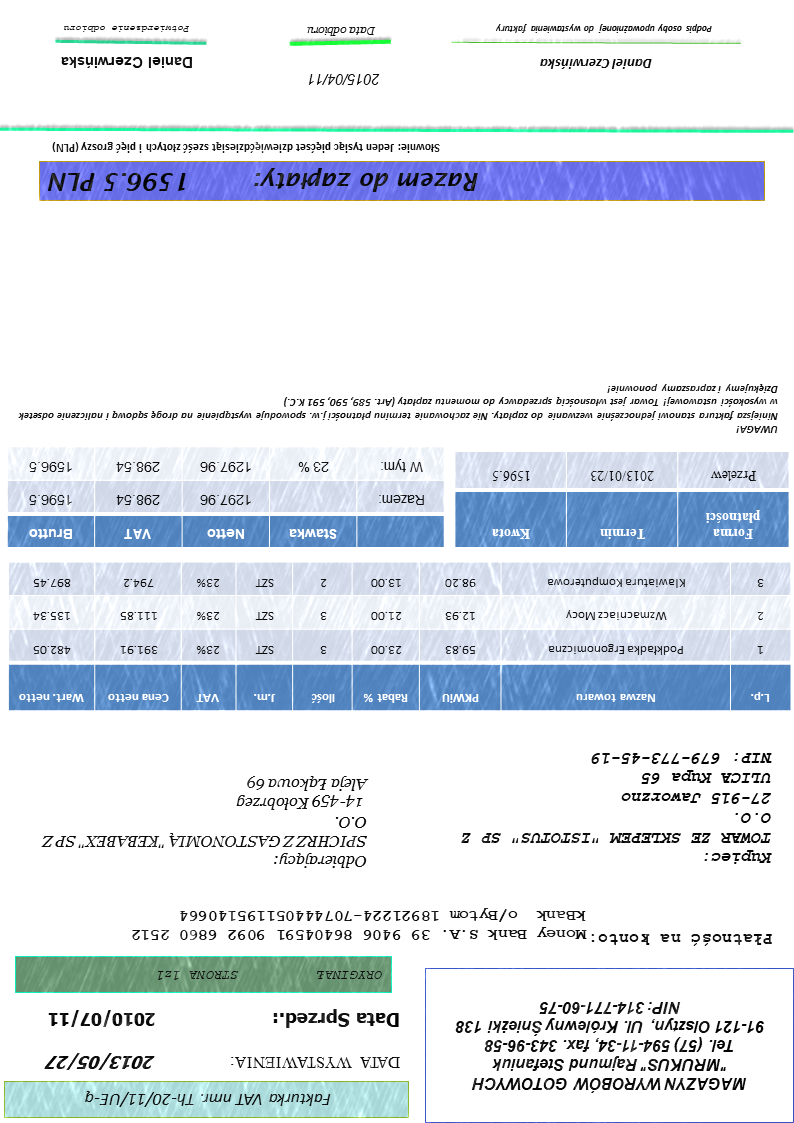Table: (3, 557, 793, 713), (6, 442, 445, 551), (453, 450, 790, 550)
TextBox: (16, 378, 784, 438), (457, 749, 776, 866), (39, 773, 371, 872), (448, 995, 770, 1094), (129, 908, 588, 944), (44, 166, 485, 198), (49, 140, 445, 158), (81, 1087, 336, 1110), (153, 966, 384, 987), (228, 1050, 404, 1075), (586, 930, 778, 950), (493, 20, 716, 37), (270, 1008, 403, 1032), (59, 51, 197, 72), (42, 1051, 162, 1074), (45, 1007, 160, 1031), (60, 23, 195, 37), (538, 57, 656, 73), (307, 72, 384, 89), (304, 25, 378, 38)
